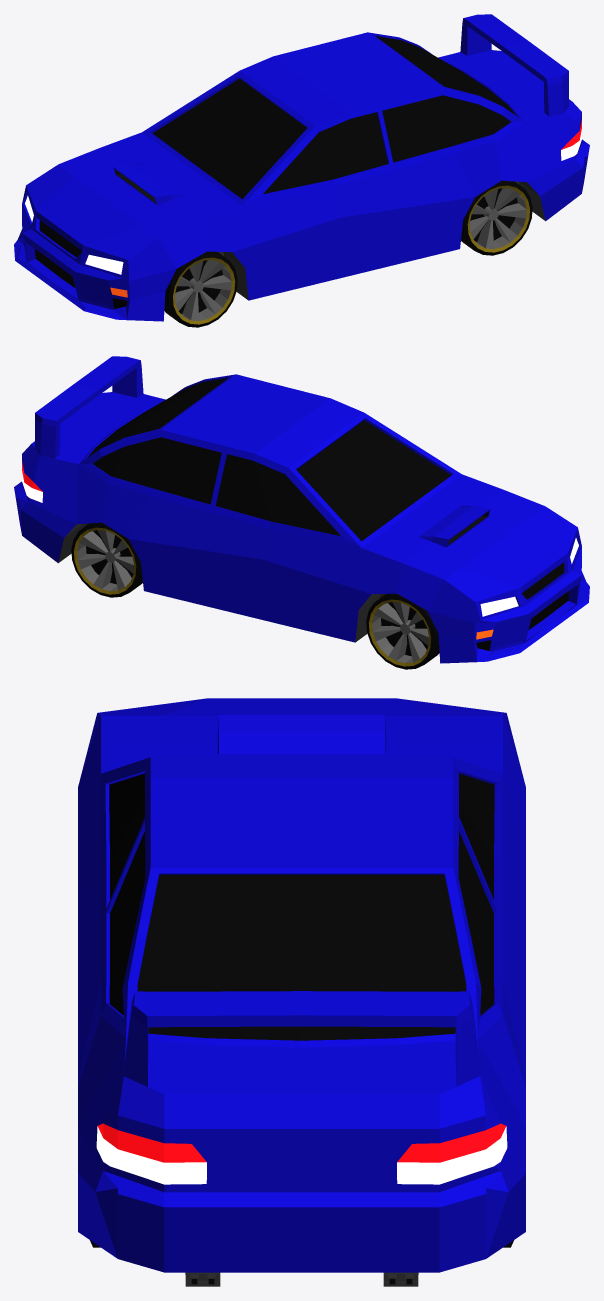
Rendered from Impreza.glb.
3 renders of one model, top to bottom at view 1: azimuth 30°, elevation 25°; view 2: azimuth 150°, elevation 25°; view 3: azimuth 270°, elevation 25°, orthographic. The views are drawn at different scales.
Visible parts, largest first — view 1: Body, BL_wheel.001, BL_wheel; view 2: Body, FR_wheel, BR_wheel; view 3: Body.
Part boxes in pixels (x1,y1,x2,y2): Body: [14, 14, 589, 321]; BL_wheel.001: [164, 251, 237, 327]; BL_wheel: [461, 180, 532, 255]; Body: [14, 356, 589, 663]; FR_wheel: [366, 593, 439, 669]; BR_wheel: [71, 522, 142, 597]; Body: [78, 698, 525, 1286].
Size of the model in its own units: 5.14 by 1.61 by 1.97.
